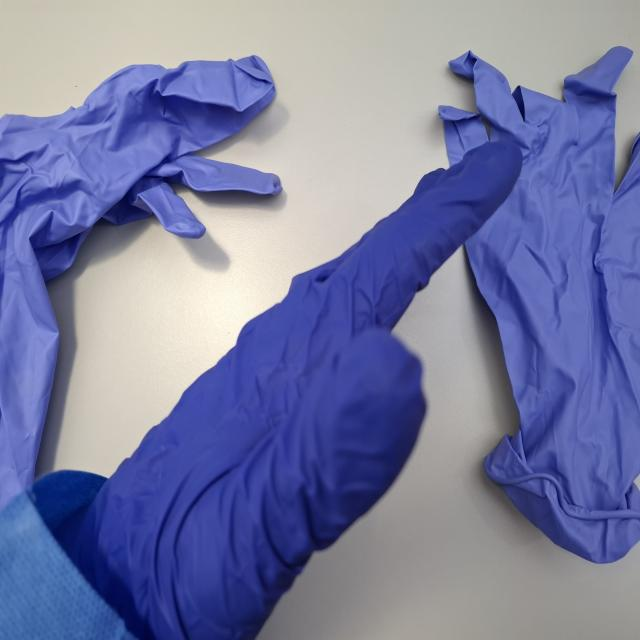glove_on: (58, 134, 526, 640)
